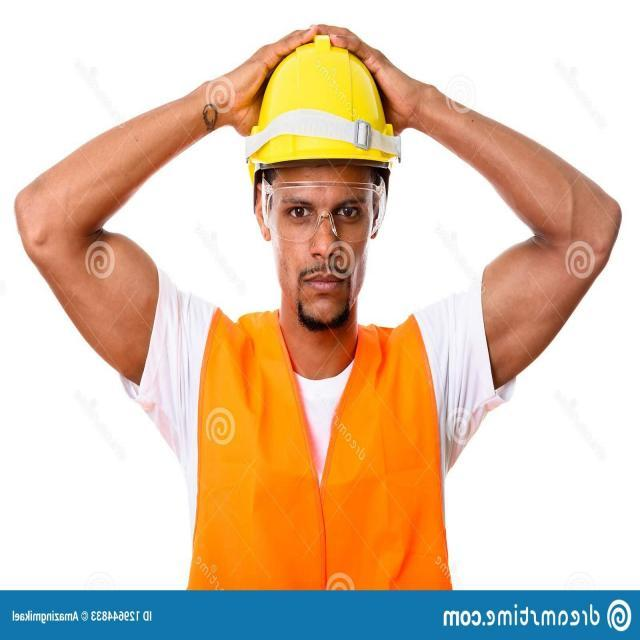reflective_jacket: (194, 309, 445, 585)
safety_helmet: (246, 31, 401, 172)
